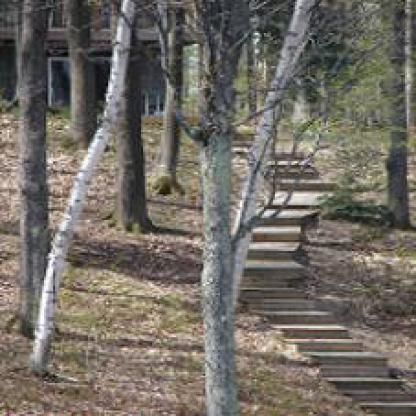stair_down: (250, 263, 402, 380)
